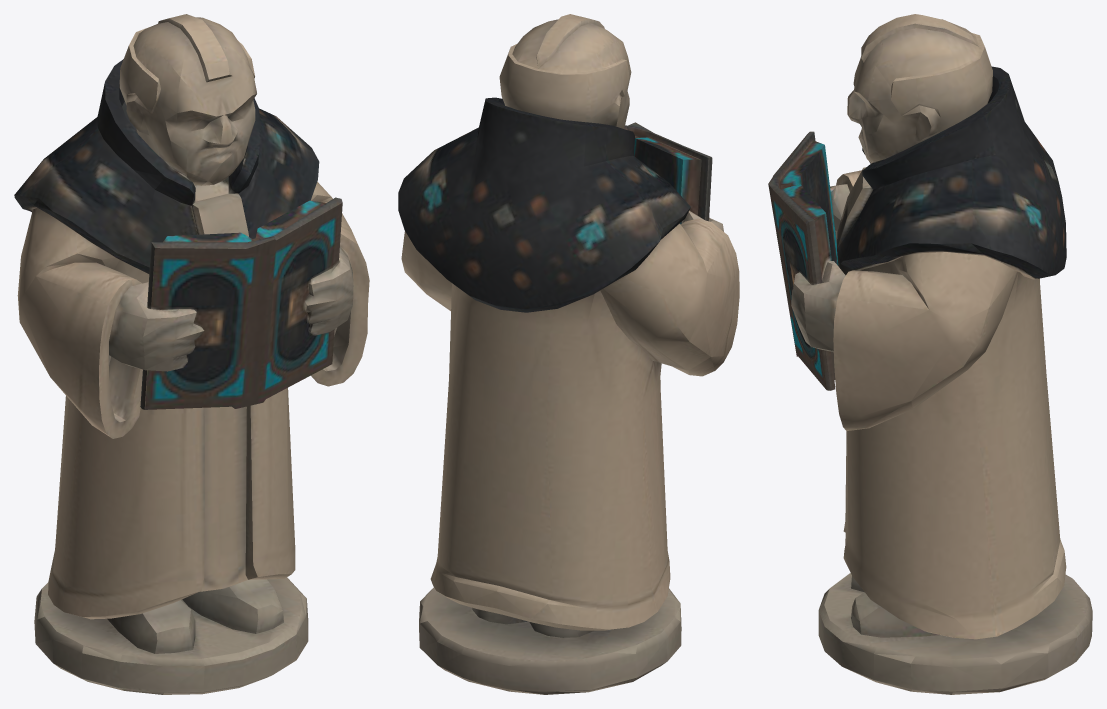
Rendered from unit-coordinator-map.glb.
3 renders of one model, left to right at view 1: azimuth 30°, elevation 25°; view 2: azimuth 150°, elevation 25°; view 3: azimuth 270°, elevation 25°, orthographic. The views are drawn at different scales.
Bounding box in the file's own units: 0.4878 × 0.9521 × 0.4497.
1 material, 1 textured.
